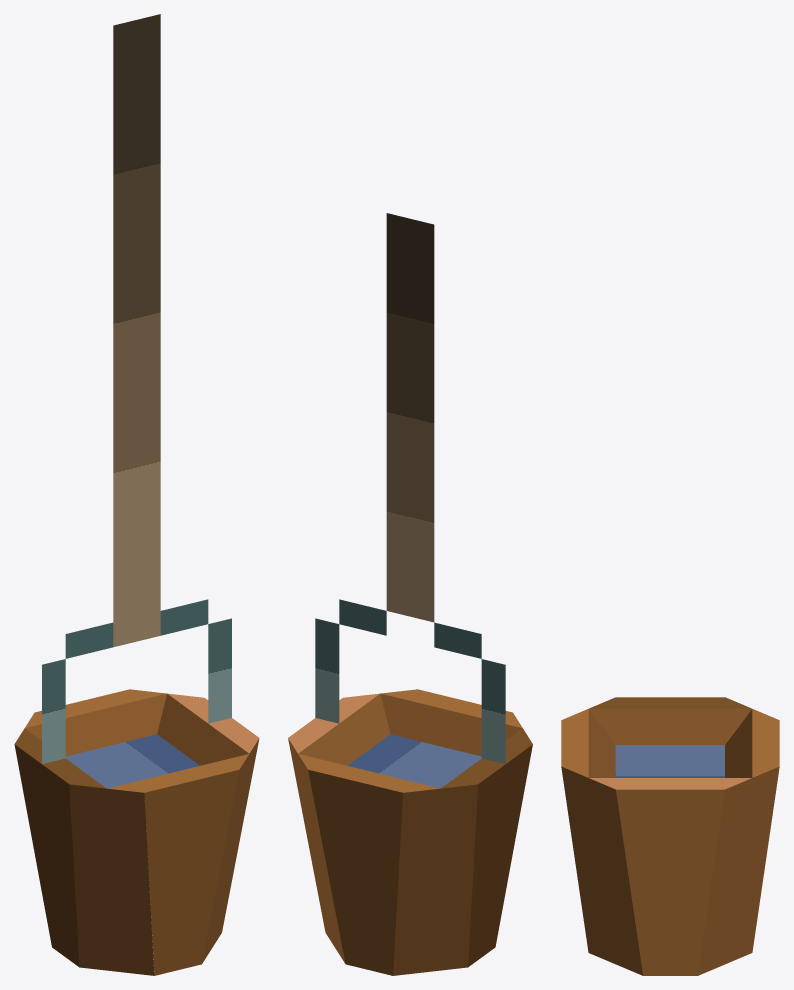
Rendered from well_bucket.gltf.
3 views of the same model, side by side, from view 1: azimuth 30°, elevation 25°; view 2: azimuth 150°, elevation 25°; view 3: azimuth 270°, elevation 25° (orthographic).
Visible parts, largest first — view 1: well_bucket; view 2: well_bucket; view 3: well_bucket.
Part boxes in pixels (x1,y1,x2,y2): well_bucket: [14, 14, 259, 975]; well_bucket: [288, 213, 532, 975]; well_bucket: [561, 697, 779, 975].
Size of the model in its own units: 0.25 by 1.16 by 0.25.
Materials: 1 (1 with a texture image).
